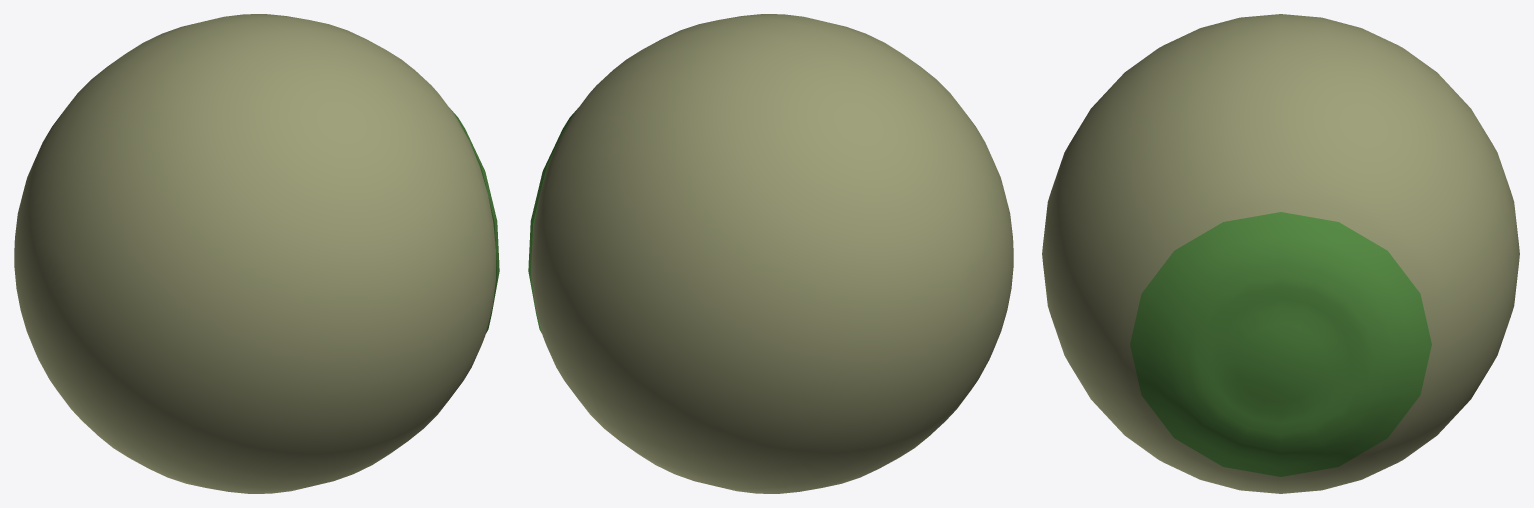
The model's file is Eye.fbx.
3 renders of one model, left to right at view 1: azimuth 30°, elevation 25°; view 2: azimuth 150°, elevation 25°; view 3: azimuth 270°, elevation 25°, orthographic.
Parts seen in each view (by area): view 1: polySurface2, polySurface1; view 2: polySurface2, polySurface1; view 3: polySurface2, polySurface1.
Boxes of the visible parts, x1,y1,x2,y2 form: polySurface2: [14, 14, 495, 493]; polySurface1: [450, 108, 499, 333]; polySurface2: [532, 14, 1013, 493]; polySurface1: [528, 108, 577, 333]; polySurface2: [1042, 14, 1519, 493]; polySurface1: [1130, 212, 1431, 476].
Bounding box in the file's own units: 1.94 × 1.95 × 1.95.
